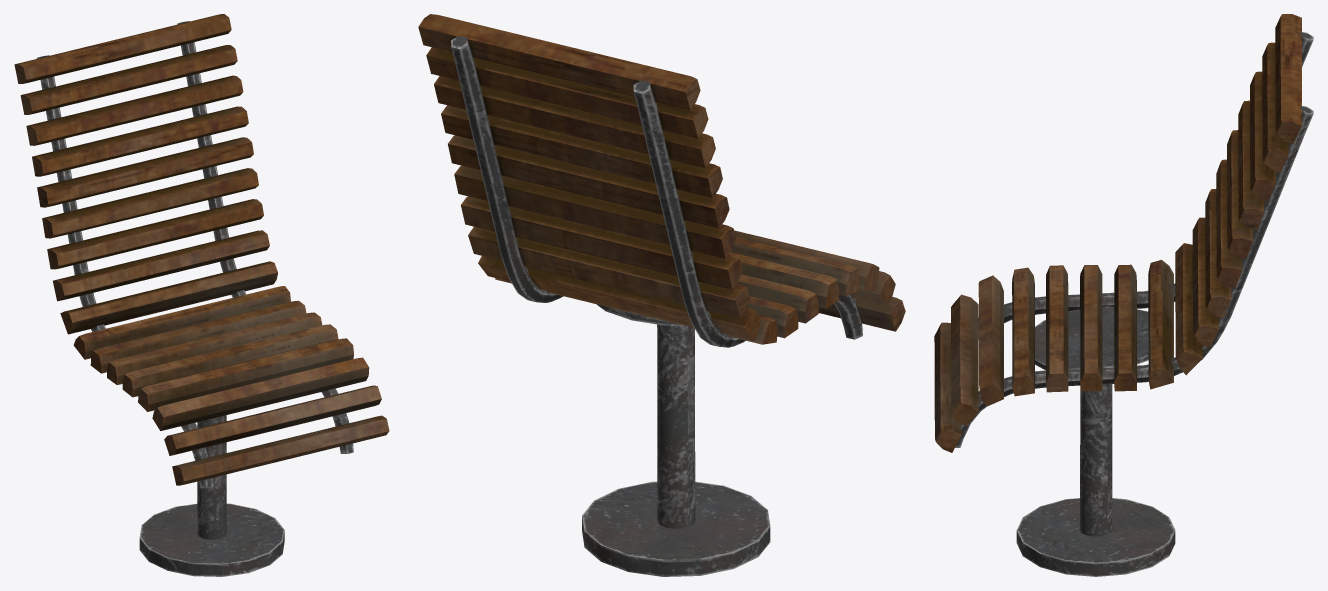
Rendered from Crane Seat.fbx.
3 views of the same model, side by side, from view 1: azimuth 30°, elevation 25°; view 2: azimuth 150°, elevation 25°; view 3: azimuth 270°, elevation 25° (orthographic). The views are drawn at different scales.
Visible parts, largest first — view 1: Cylinder.011; view 2: Cylinder.011; view 3: Cylinder.011.
Part boxes in pixels (bbox=[...]): Cylinder.011: bbox=[14, 14, 389, 576]; Cylinder.011: bbox=[418, 14, 905, 576]; Cylinder.011: bbox=[934, 14, 1313, 576].
Size of the model in its own units: 63.25 by 130 by 93.51.
